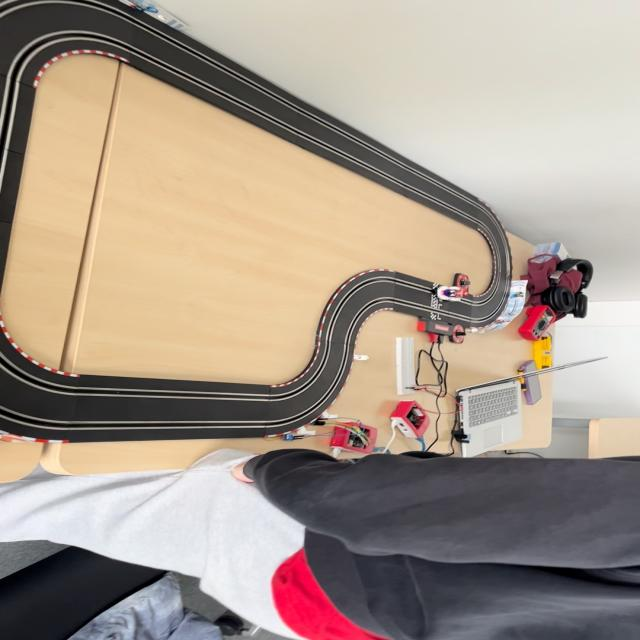mario: (435, 284, 472, 303)
